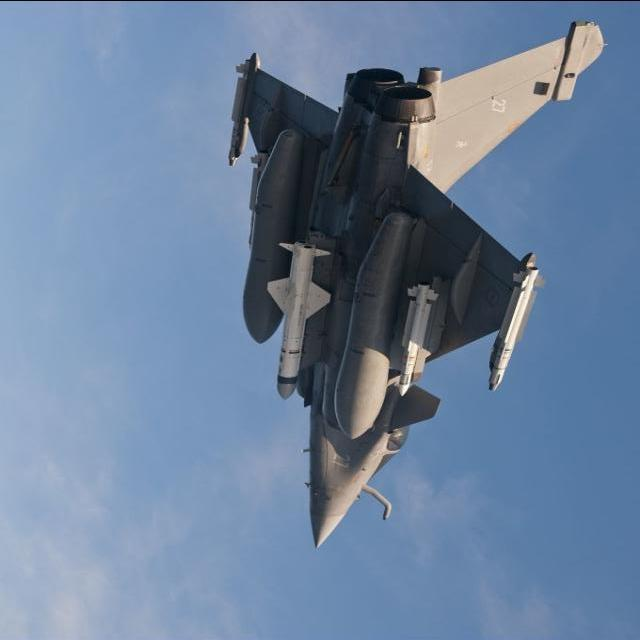missile: (274, 238, 318, 400)
